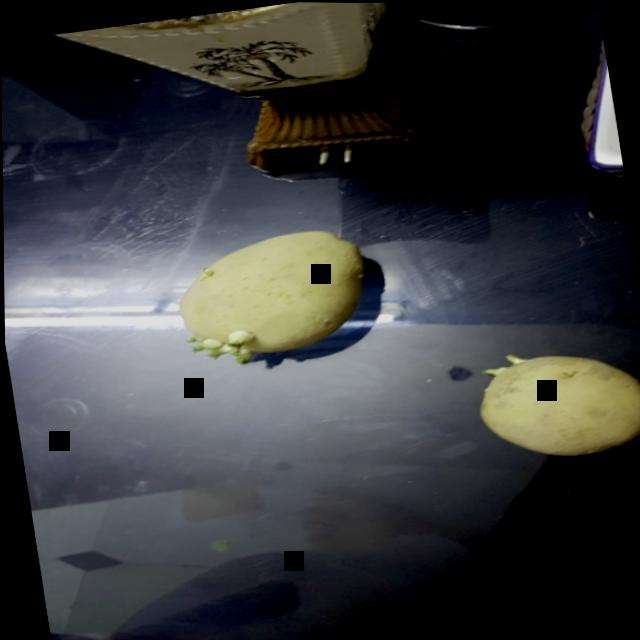potato: (159, 217, 383, 388), (467, 329, 640, 473)
